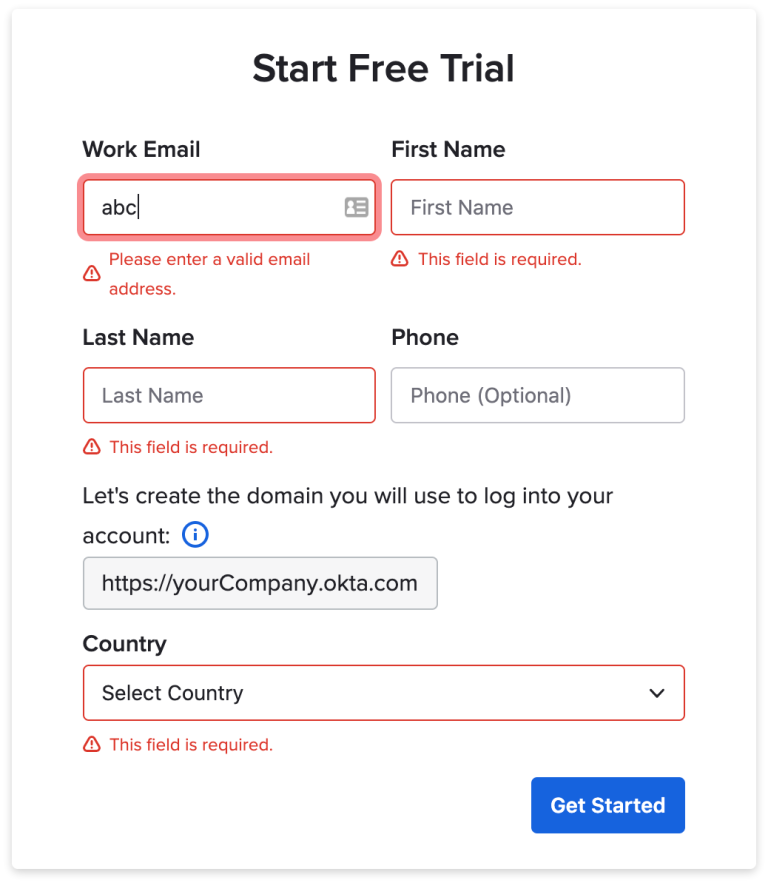error_field: (81, 664, 686, 721), (78, 171, 382, 242), (390, 178, 687, 238), (82, 368, 375, 425)
error_message: (106, 250, 315, 296), (106, 437, 277, 458), (111, 733, 270, 754), (417, 251, 580, 269)
